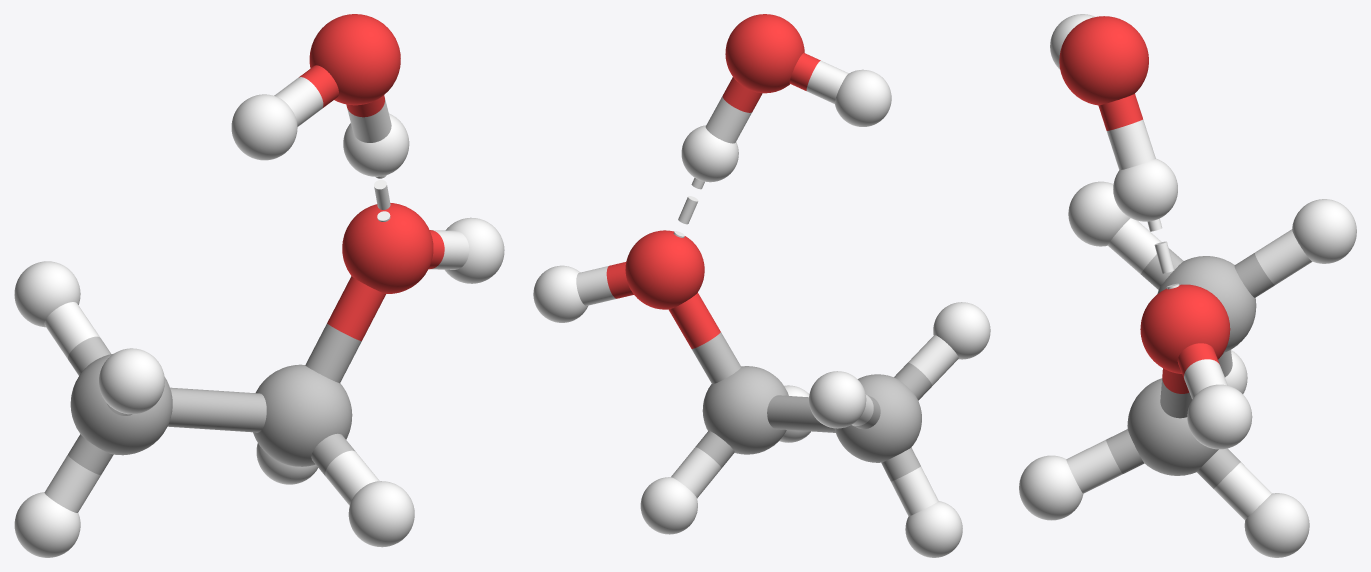
The model's file is hydrogen_bond_between_ethanol_and_water_molecule.glb.
The picture shows the model from 3 angles, left to right: view 1: azimuth 30°, elevation 25°; view 2: azimuth 150°, elevation 25°; view 3: azimuth 270°, elevation 25°; orthographic projection. The views are drawn at different scales.
Parts seen in each view (by area): view 1: hbonds_0; view 2: hbonds_0; view 3: hbonds_0.
Boxes of the visible parts, x1,y1,x2,y2 form: hbonds_0: (14,14,504,557); hbonds_0: (533,14,990,557); hbonds_0: (1019,14,1356,557).
Bounding box in the file's own units: 4.27 × 4.5 × 2.63.
